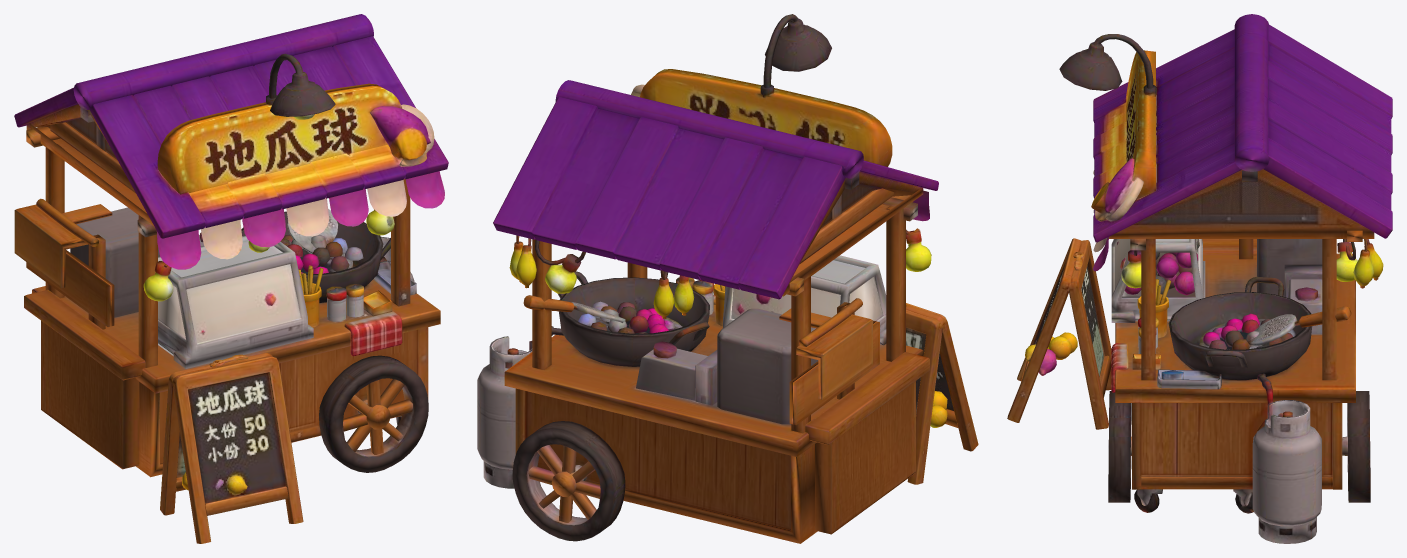
Rendered from stall-qq.glb.
3 views of the same model, side by side, from view 1: azimuth 30°, elevation 25°; view 2: azimuth 150°, elevation 25°; view 3: azimuth 270°, elevation 25° (orthographic). The views are drawn at different scales.
Parts seen in each view (by area): view 1: tripo_node_42d0ad64-23e8-4a42-a4a2-8ccba3cbda21; view 2: tripo_node_42d0ad64-23e8-4a42-a4a2-8ccba3cbda21; view 3: tripo_node_42d0ad64-23e8-4a42-a4a2-8ccba3cbda21.
Part boxes in pixels (x1=…): tripo_node_42d0ad64-23e8-4a42-a4a2-8ccba3cbda21: x1=14, y1=14, x2=448, y2=543; tripo_node_42d0ad64-23e8-4a42-a4a2-8ccba3cbda21: x1=477, y1=14, x2=978, y2=543; tripo_node_42d0ad64-23e8-4a42-a4a2-8ccba3cbda21: x1=1007, y1=14, x2=1392, y2=543.
Bounding box in the file's own units: 0.8765 × 0.9995 × 0.8247.
1 material, 1 textured.
